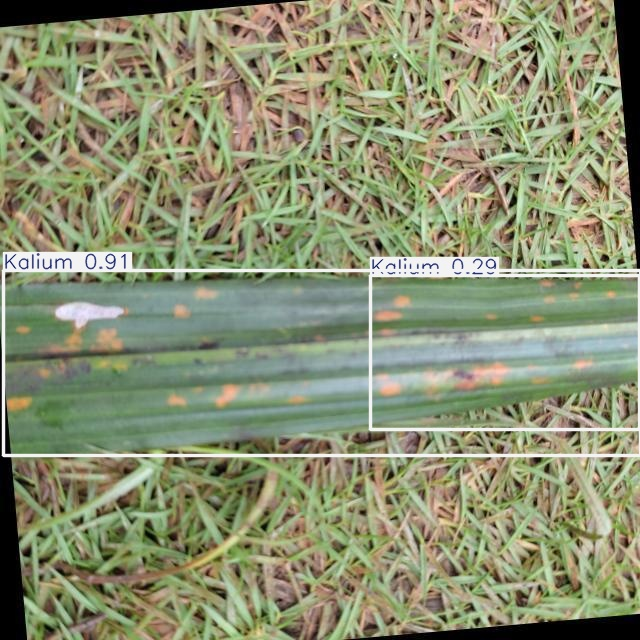Kalium: (3, 270, 640, 455), (370, 275, 640, 429)
